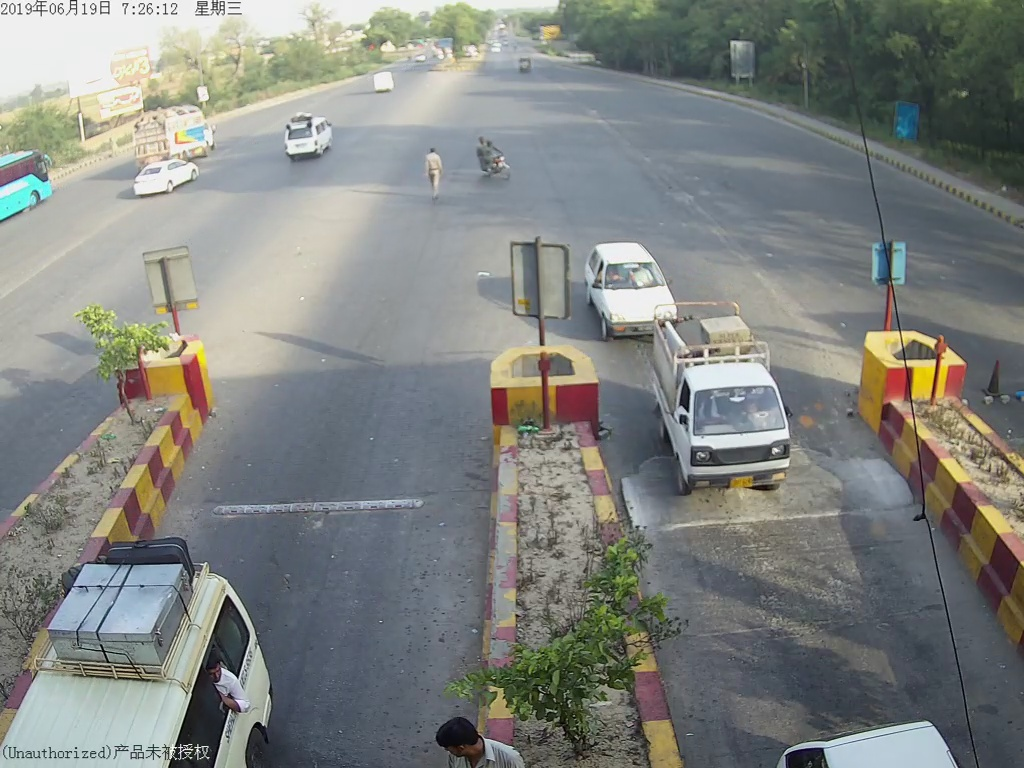Cat-1: (653, 310, 810, 498), (590, 248, 648, 340)
